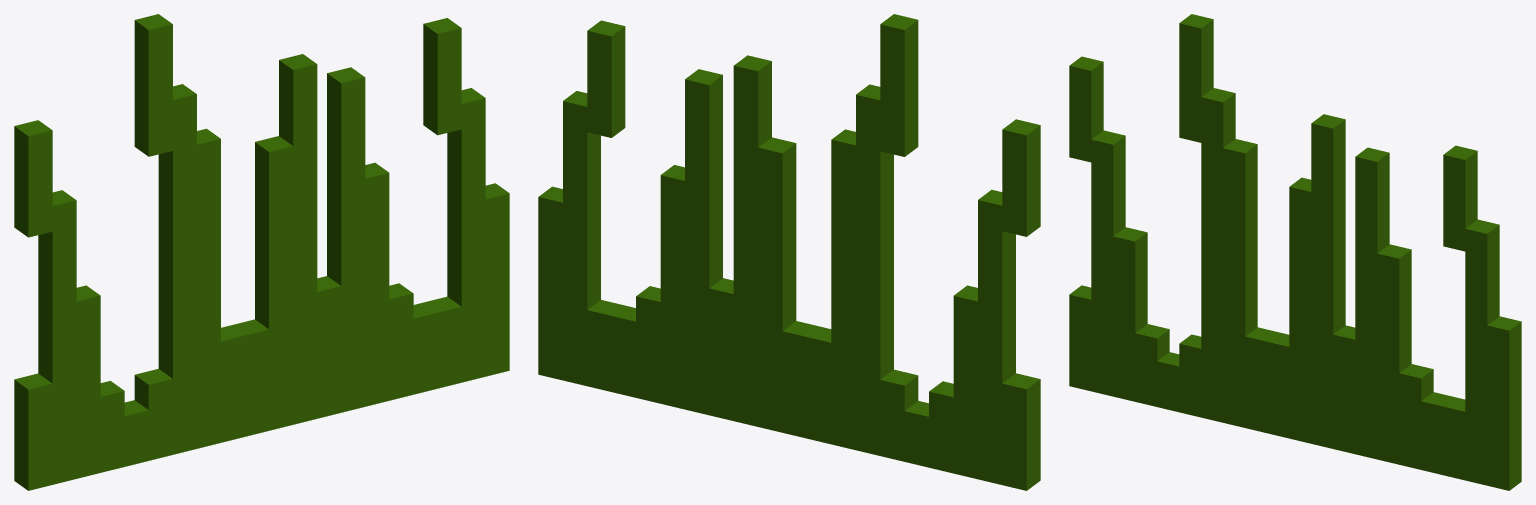
Rendered from GrassModel2.fbx.
The picture shows the model from 3 angles, left to right: view 1: azimuth 30°, elevation 25°; view 2: azimuth 150°, elevation 25°; view 3: azimuth 330°, elevation 25°; orthographic projection. The views are drawn at different scales.
Parts seen in each view (by area): view 1: GrassModel2; view 2: GrassModel2; view 3: GrassModel2.
Boxes of the visible parts, bbox=[...] form: GrassModel2: bbox=[14, 14, 509, 490]; GrassModel2: bbox=[538, 14, 1040, 490]; GrassModel2: bbox=[1069, 14, 1521, 490].
Bounding box in the file's own units: 1.08 × 0.9214 × 0.0654.
